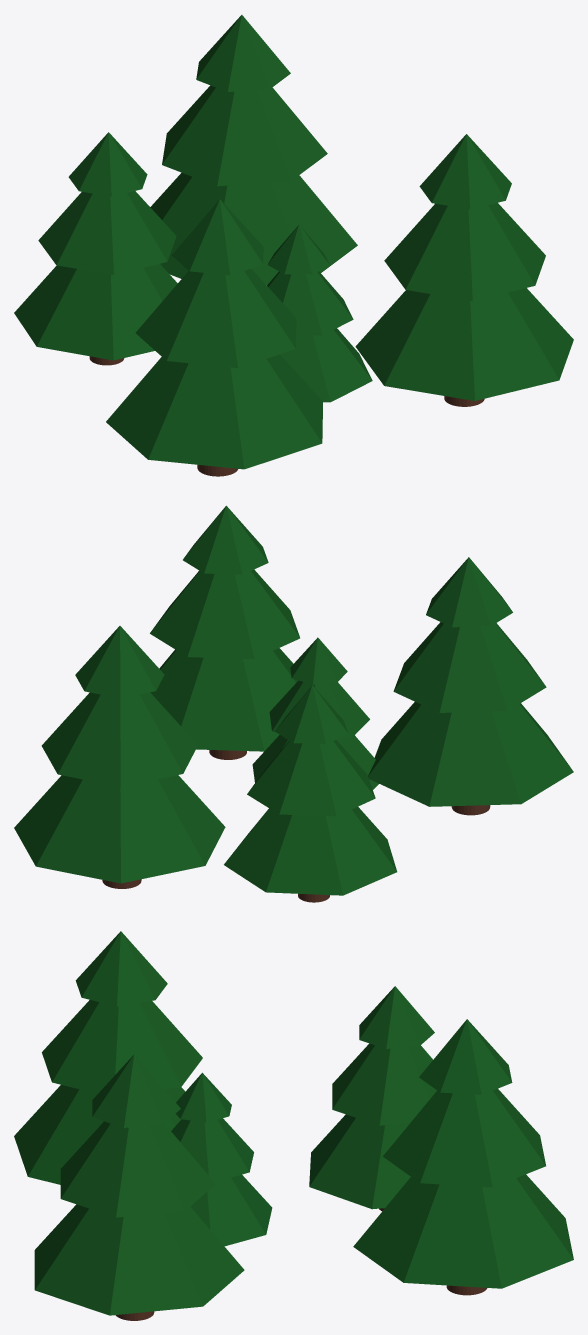
File: Forest.fbx
3 renders of one model, top to bottom at view 1: azimuth 30°, elevation 25°; view 2: azimuth 150°, elevation 25°; view 3: azimuth 270°, elevation 25°, orthographic. The views are drawn at different scales.
Visible parts, largest first — view 1: Cone.002; view 2: Cone.002; view 3: Cone.002.
Boxes of the visible parts, bbox=[...] form: Cone.002: bbox=[14, 15, 573, 476]; Cone.002: bbox=[14, 505, 573, 902]; Cone.002: bbox=[14, 931, 573, 1320].
Size of the model in its own units: 203 by 121 by 227.
